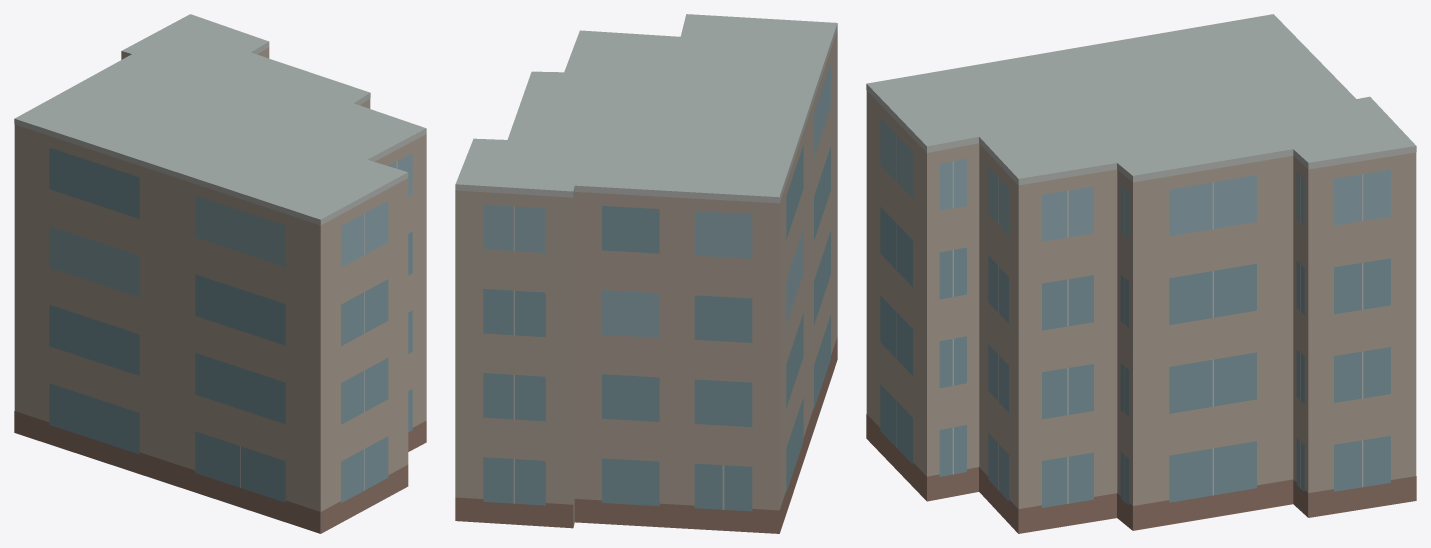
The model's file is survey-upis-33041327.glb.
3 views of the same model, side by side, from view 1: azimuth 30°, elevation 25°; view 2: azimuth 150°, elevation 25°; view 3: azimuth 270°, elevation 25° (orthographic). The views are drawn at different scales.
Visible parts, largest first — view 1: survey-upis-33041327.tmp; view 2: survey-upis-33041327.tmp; view 3: survey-upis-33041327.tmp.
Boxes of the visible parts, x1,y1,x2,y2 form: survey-upis-33041327.tmp: [14, 14, 426, 533]; survey-upis-33041327.tmp: [455, 14, 837, 533]; survey-upis-33041327.tmp: [866, 14, 1416, 533].
Bounding box in the file's own units: 13.26 × 13.3 × 18.69.
